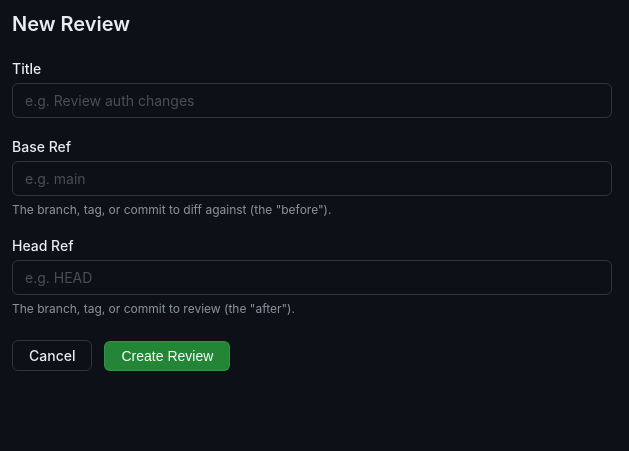
Test: SessionCreatePage › shows a generic error message for unexpected errors
Type "Test" into the field labelled "Title" at (312, 100), box [12, 83, 612, 118]
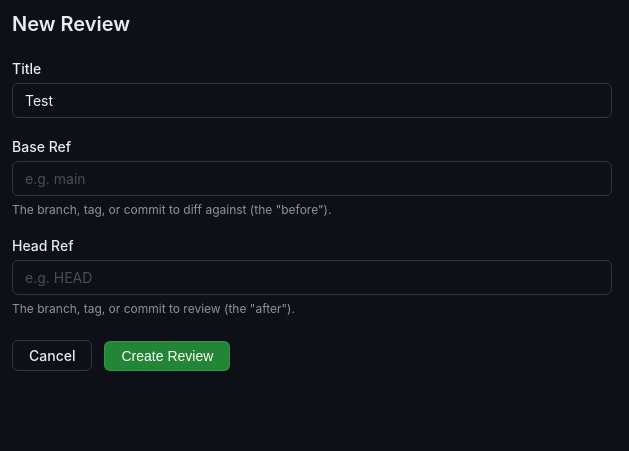
Type "main" into the dropdown labelled "Base Ref" at (312, 178), box [12, 161, 612, 196]
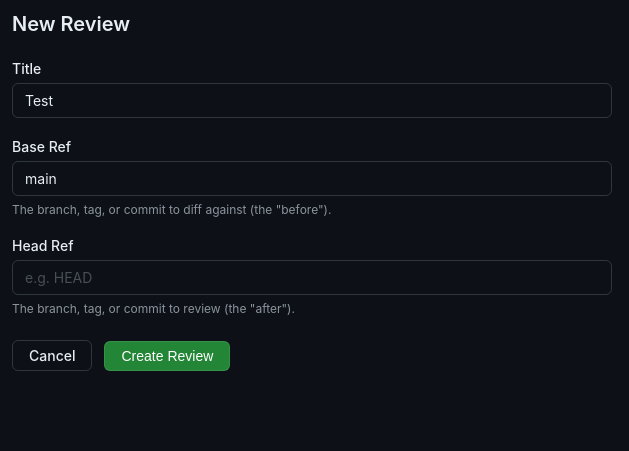
Type "HEAD" into the dropdown labelled "Head Ref" at (312, 278), box [12, 260, 612, 295]
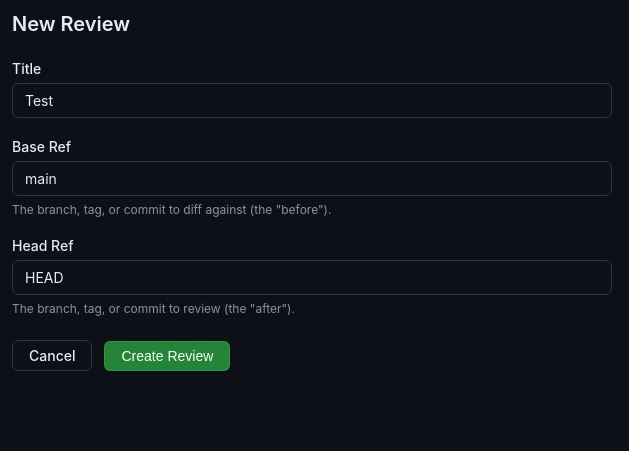
Click the button "Create Review" at (167, 356), box [104, 340, 230, 370]
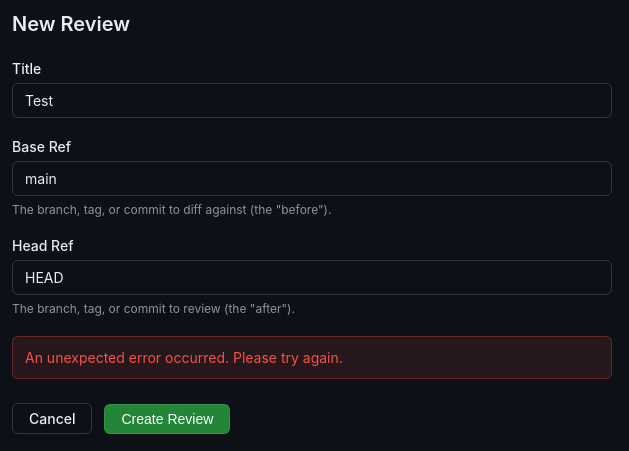
Now the text "An unexpected error occurred. Please try again." is shown, box [12, 336, 612, 379]
